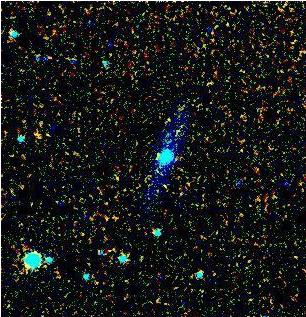star: (143, 139, 173, 169)
